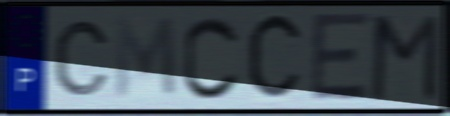C: (245, 9, 307, 107), (181, 14, 242, 103), (51, 18, 112, 99)
E: (309, 10, 372, 106)
M: (367, 12, 441, 104), (113, 14, 180, 102)
